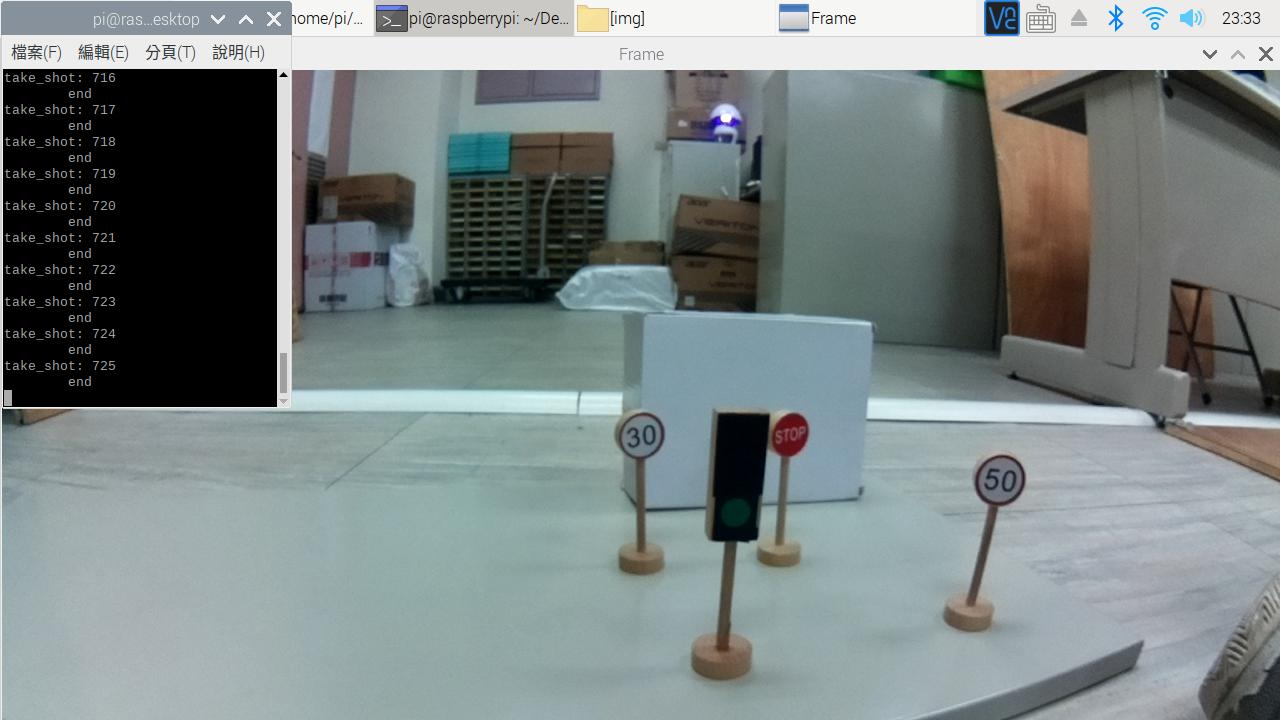Green: (705, 404, 763, 542)
Speed30: (612, 411, 672, 456)
Speed50: (970, 451, 1030, 508)
Stop: (769, 405, 814, 456)
